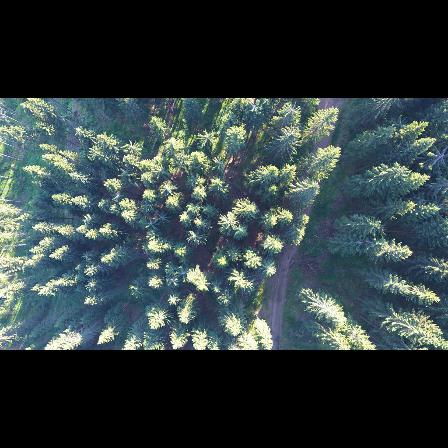Sick: (430, 144, 448, 168), (155, 210, 170, 225)
